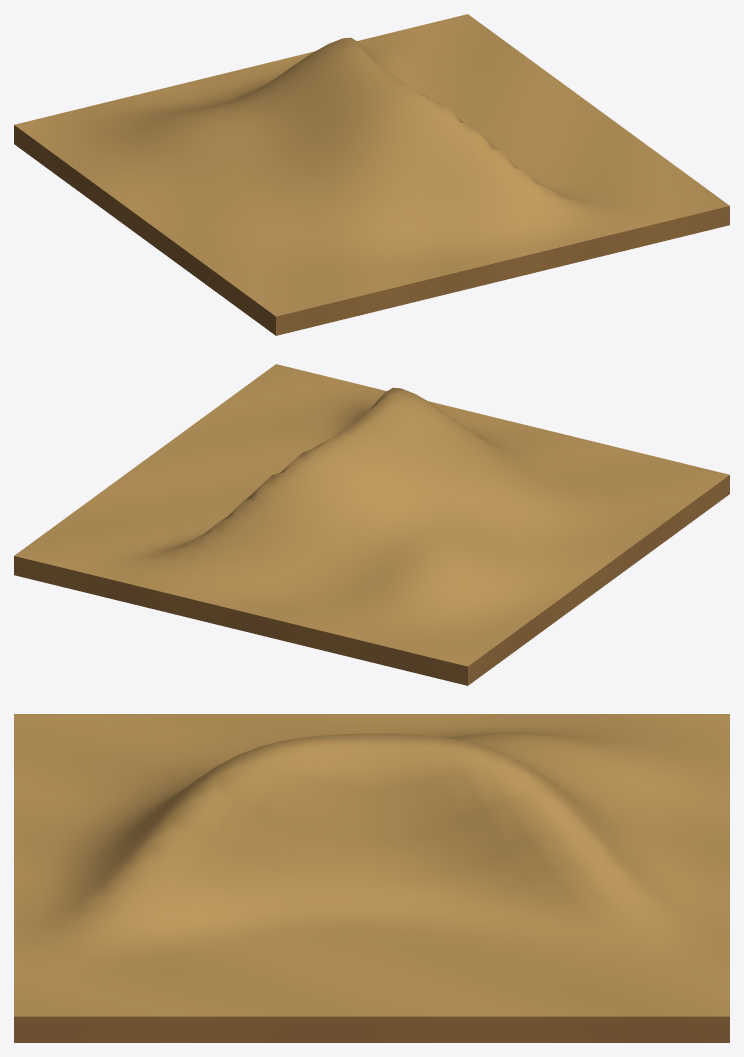
The model's file is Environment_Desert_DuneTile16m_001.glb.
3 renders of one model, top to bottom at view 1: azimuth 30°, elevation 25°; view 2: azimuth 150°, elevation 25°; view 3: azimuth 270°, elevation 25°, orthographic. The views are drawn at different scales.
Parts seen in each view (by area): view 1: DS_DuneTile16m_Body; view 2: DS_DuneTile16m_Body; view 3: DS_DuneTile16m_Body.
Part boxes in pixels (bbox=[...]): DS_DuneTile16m_Body: bbox=[14, 14, 729, 335]; DS_DuneTile16m_Body: bbox=[14, 364, 729, 685]; DS_DuneTile16m_Body: bbox=[14, 714, 729, 1042].
Bounding box in the file's own units: 16 × 3.78 × 16.
